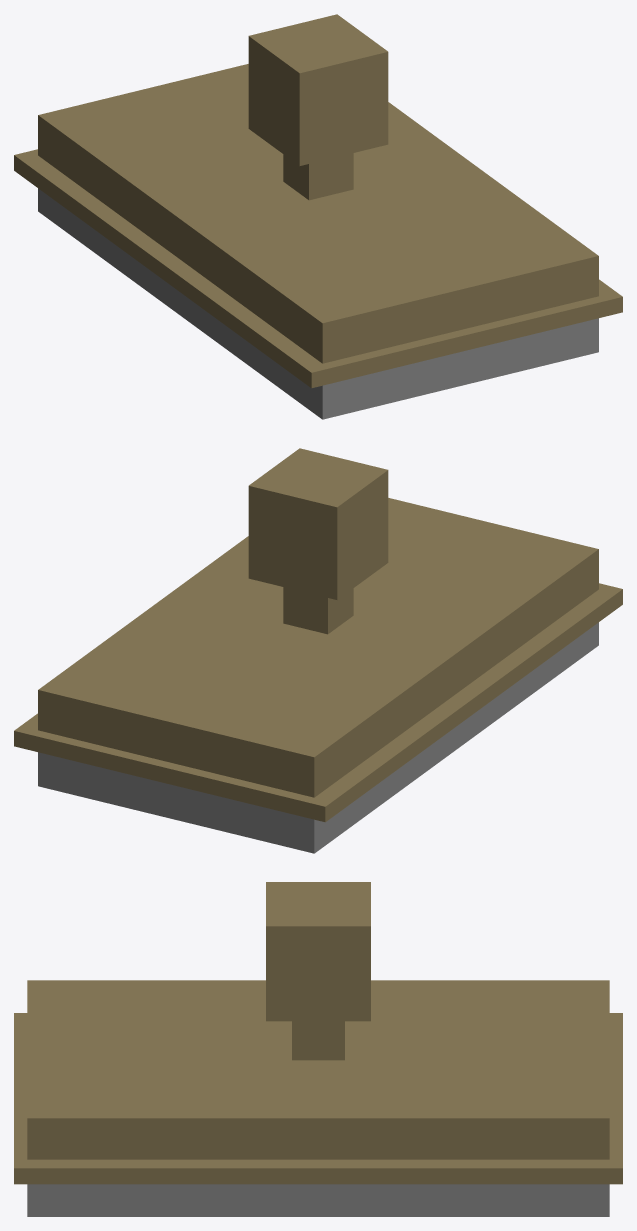
Rendered from Stamp.fbx.
3 renders of one model, top to bottom at view 1: azimuth 30°, elevation 25°; view 2: azimuth 150°, elevation 25°; view 3: azimuth 270°, elevation 25°, orthographic. The views are drawn at different scales.
Visible parts, largest first — view 1: pasted__pCube1, pCube2, pCube4, pasted__pCube2; view 2: pasted__pCube1, pCube2, pCube4, pasted__pCube2; view 3: pasted__pCube1, pCube4, pCube2, pasted__pCube2.
Part boxes in pixels (<box>): pasted__pCube1: <box>38,64,598,419</box>; pCube2: <box>248,14,388,165</box>; pCube4: <box>14,149,622,388</box>; pasted__pCube2: <box>283,153,353,200</box>; pasted__pCube1: <box>38,498,598,853</box>; pCube2: <box>248,448,388,599</box>; pCube4: <box>14,583,622,822</box>; pasted__pCube2: <box>283,587,353,634</box>; pasted__pCube1: <box>27,980,609,1216</box>; pCube4: <box>14,1013,622,1184</box>; pCube2: <box>266,882,370,1021</box>; pasted__pCube2: <box>292,1021,344,1060</box>.
Bounding box in the file's own units: 0.6955 × 0.5321 × 1.15.
